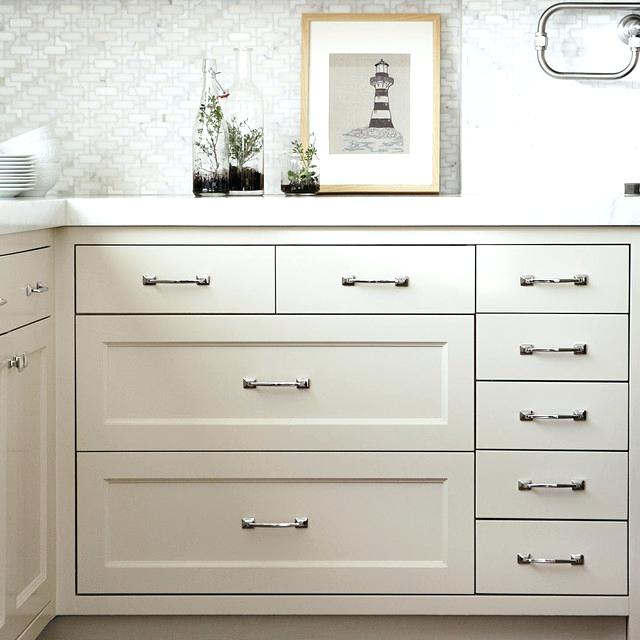cabinet door: (76, 318, 478, 448), (78, 457, 472, 589), (278, 252, 476, 313), (71, 248, 279, 306), (477, 380, 629, 454), (11, 336, 52, 608), (476, 522, 626, 593), (477, 247, 631, 316), (474, 451, 628, 519), (474, 316, 628, 380), (16, 257, 52, 317)
handle: (520, 472, 586, 502), (521, 546, 584, 572), (525, 337, 587, 363), (339, 271, 410, 292), (522, 405, 586, 428), (241, 514, 311, 534), (142, 273, 211, 292), (239, 377, 313, 393), (524, 274, 585, 292), (11, 348, 31, 381), (25, 277, 49, 298)
